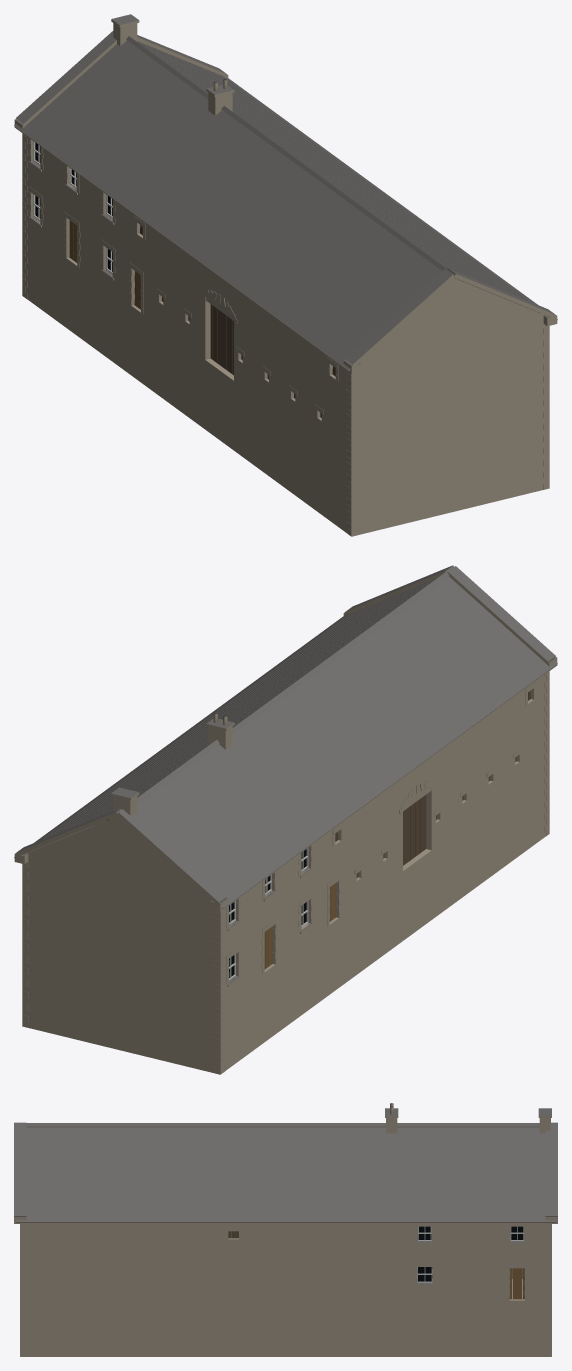
Rendered from context.dales.house_30.glb.
3 views of the same model, one above another, from view 1: azimuth 30°, elevation 25°; view 2: azimuth 150°, elevation 25°; view 3: azimuth 270°, elevation 25° (orthographic). The views are drawn at different scales.
Visible parts, largest first — view 1: main__stone_a98, main__slate_666, main__paint_654; view 2: main__stone_a98, main__slate_666, main__paint_654; view 3: main__stone_a98, main__slate_666, main__glass_dark.
Part boxes in pixels (x1,y1,x2,y2): main__stone_a98: (14,19,557,536); main__slate_666: (14,14,556,530); main__paint_654: (162,297,335,417); main__stone_a98: (14,571,557,1074); main__slate_666: (15,565,557,1068); main__paint_654: (383,692,528,864); main__stone_a98: (14,1104,557,1356); main__slate_666: (14,1103,557,1352); main__glass_dark: (418,1226,523,1281).
Size of the model in its own units: 10.99 by 13.2 by 30.63.
